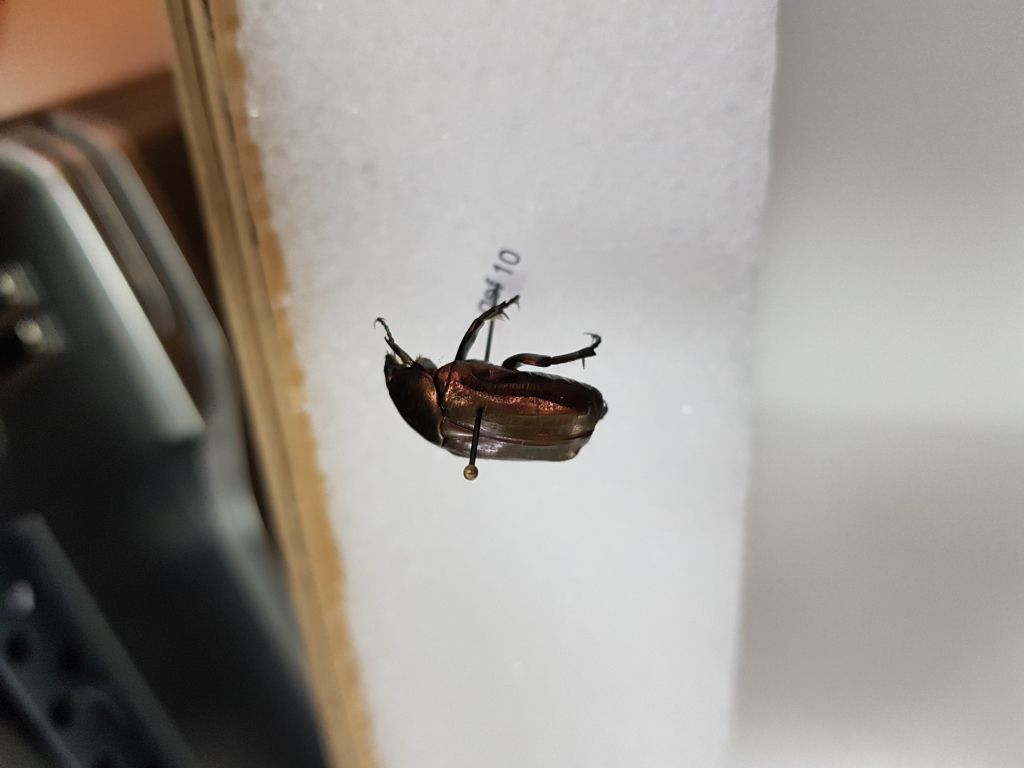Cetonia_aurata: (363, 292, 607, 475)
